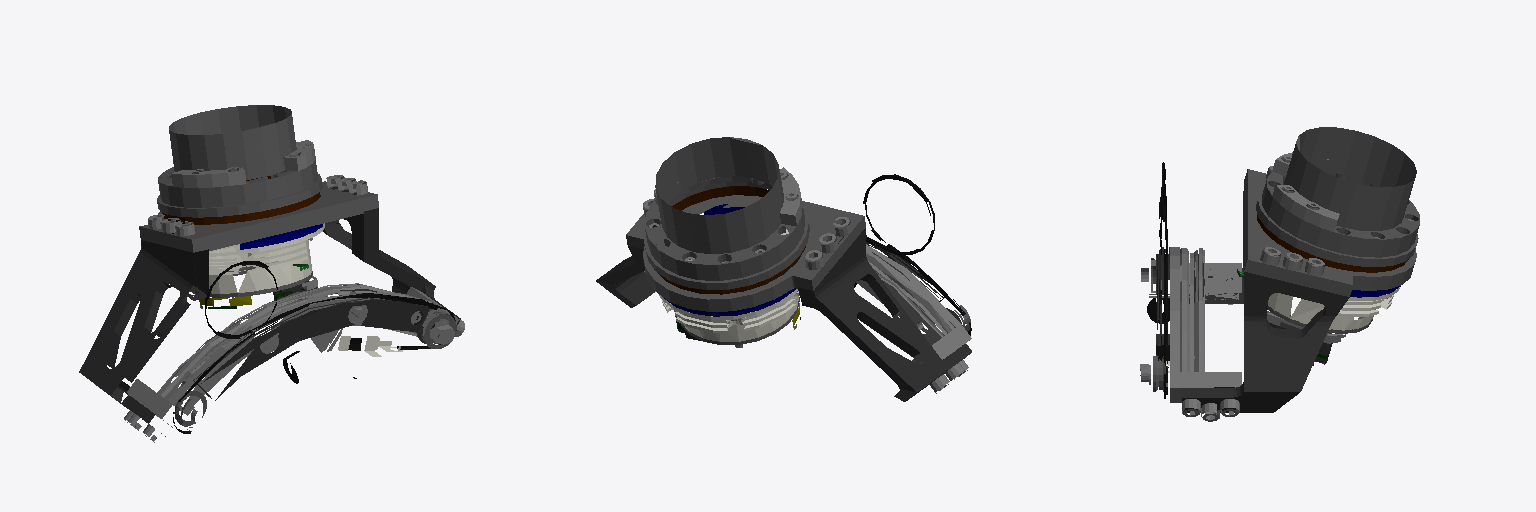
3 views of the same model, side by side, from view 1: azimuth 30°, elevation 25°; view 2: azimuth 150°, elevation 25°; view 3: azimuth 270°, elevation 25° (orthographic).
Size of the model in its own units: 0.165 by 0.1156 by 0.1227.
Materials: 1 (1 with a texture image).